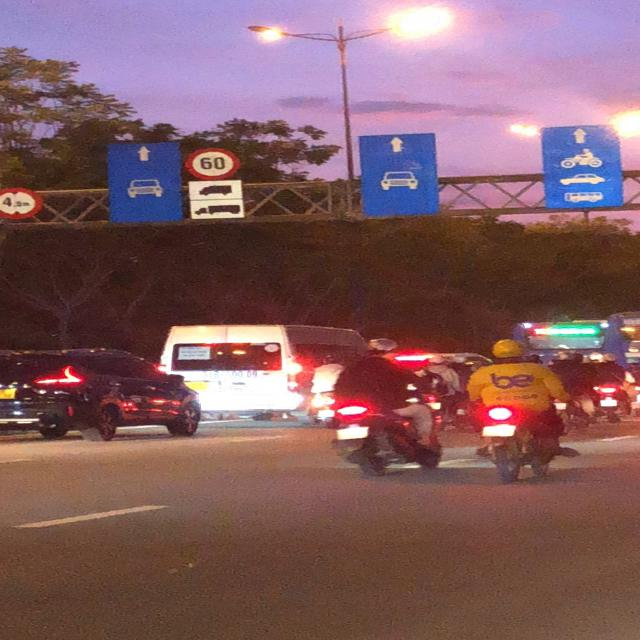Bien bao han che chieu cao: (0, 180, 51, 227)
Bien bao toc do toi da cho phep: (183, 145, 245, 184)
